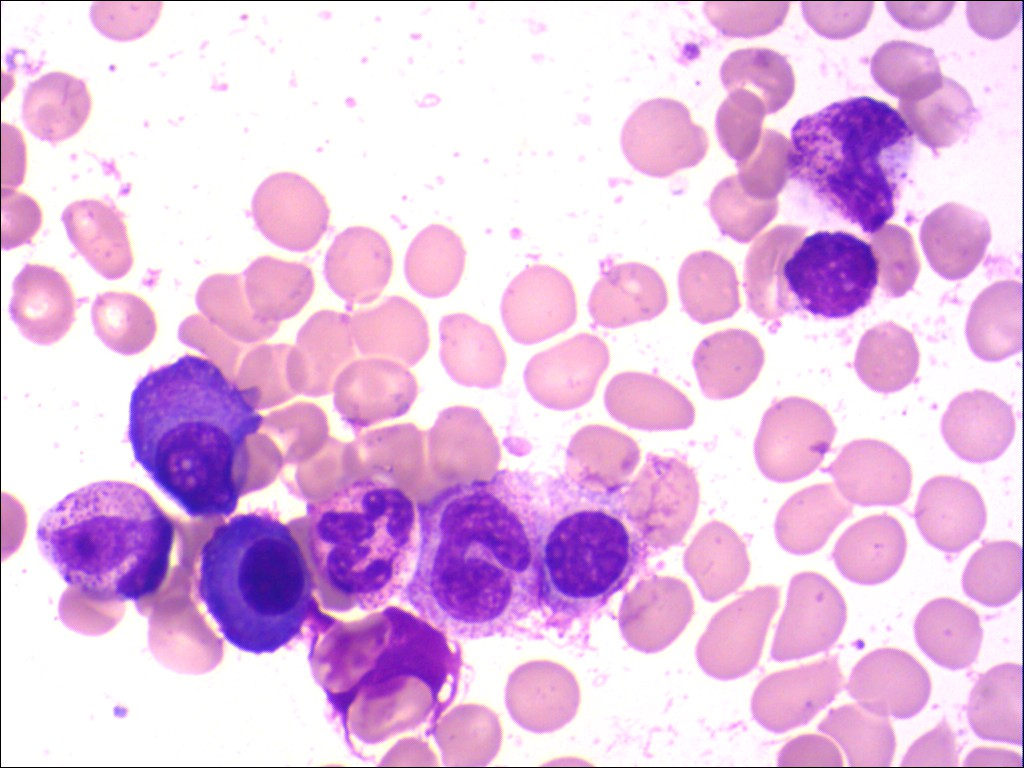42: (403, 467, 542, 643)
5: (783, 92, 917, 235), (33, 478, 176, 605)
51: (126, 353, 266, 522), (195, 511, 319, 657)
6: (303, 473, 419, 614)
x: (539, 467, 650, 639), (777, 228, 885, 322)
